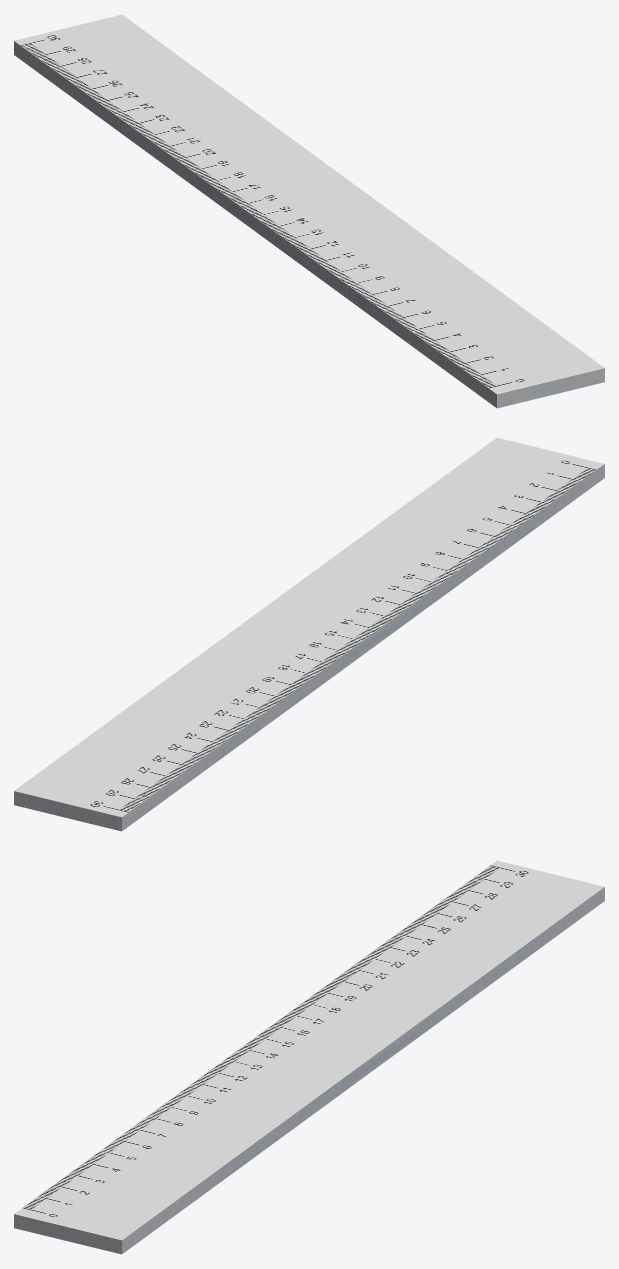
File: linjal.dae
3 views of the same model, one above another, from view 1: azimuth 30°, elevation 25°; view 2: azimuth 150°, elevation 25°; view 3: azimuth 330°, elevation 25° (orthographic).
Visible parts, largest first — view 1: SketchUp (×2); view 2: SketchUp (×2); view 3: SketchUp (×2).
Boxes of the visible parts, box(x1,y1,x2,y2) form: SketchUp (×2): box(14, 14, 604, 408); SketchUp (×2): box(14, 437, 604, 831); SketchUp (×2): box(14, 860, 604, 1254).
Size of the model in its own units: 1.57 by 12.2 by 0.1969.
